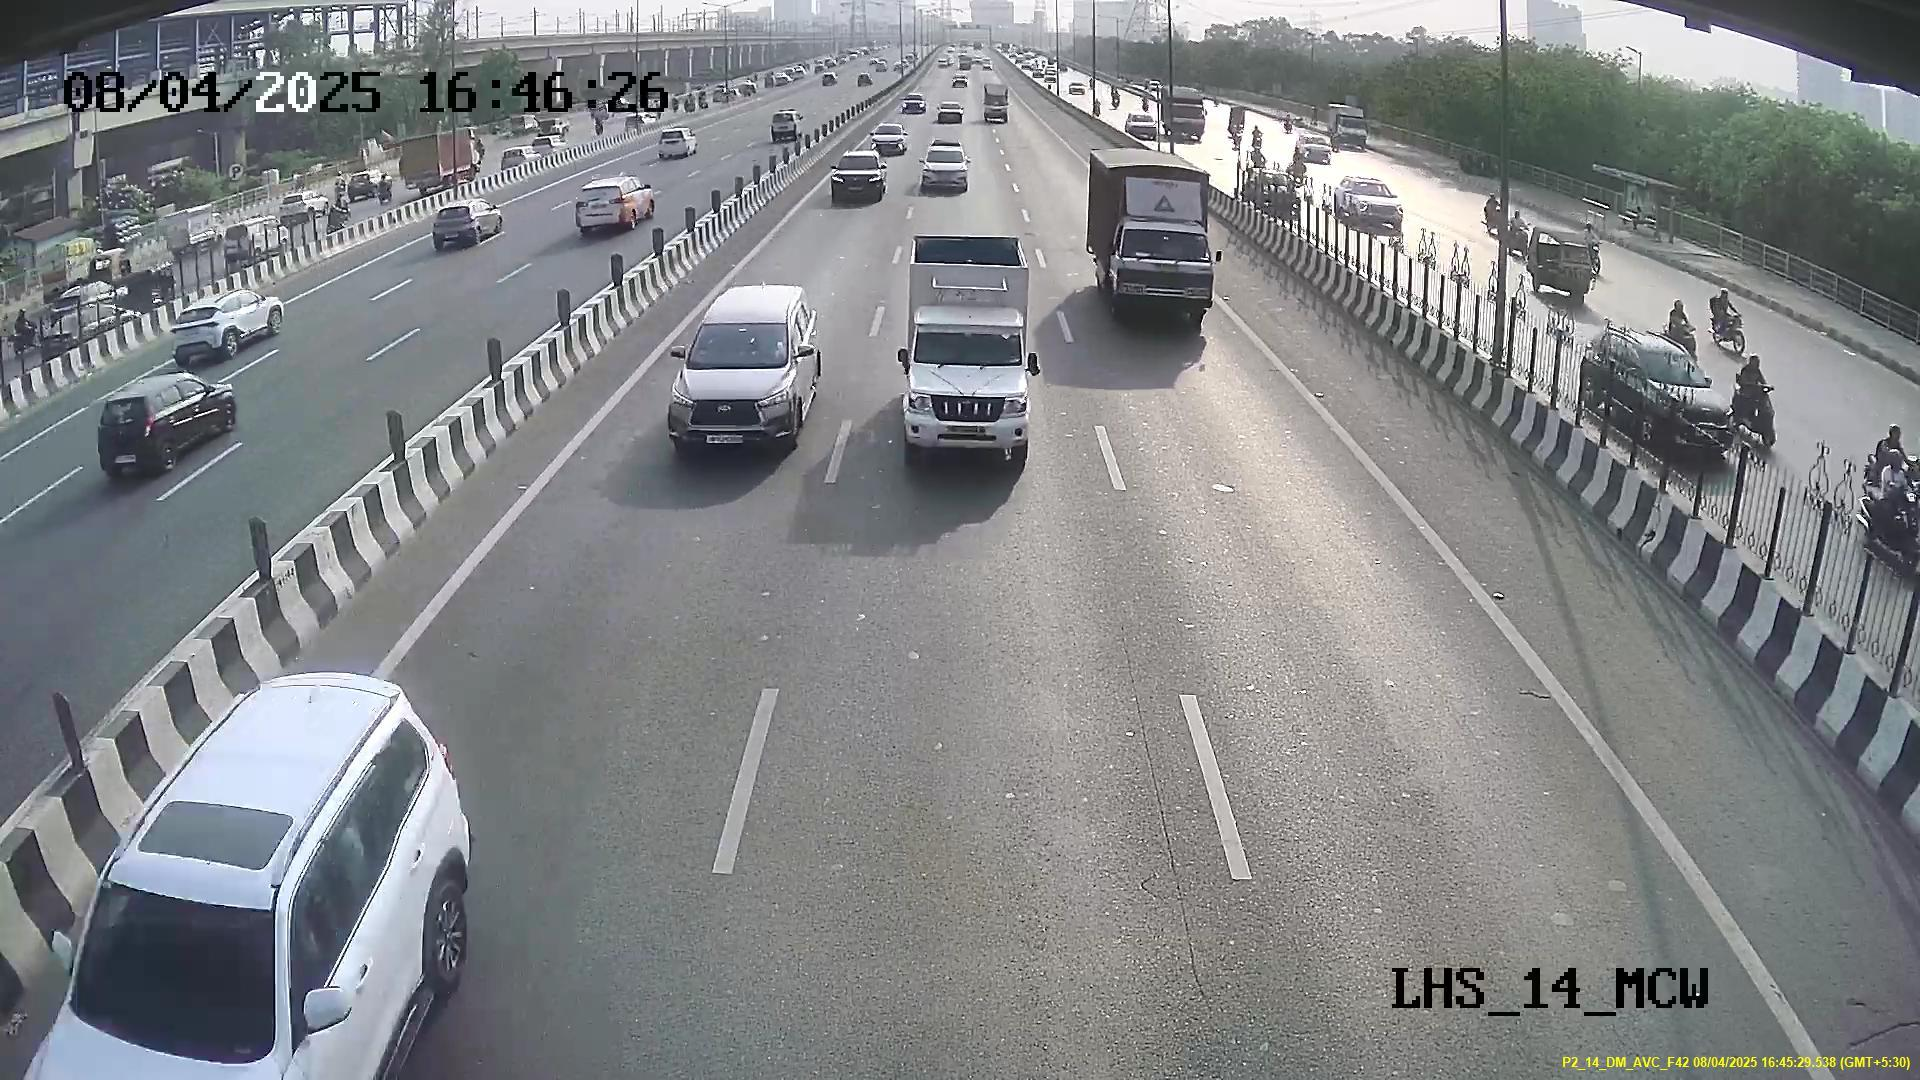car: (659, 298, 811, 452), (898, 310, 1035, 463)
lcv: (1102, 212, 1222, 318)
